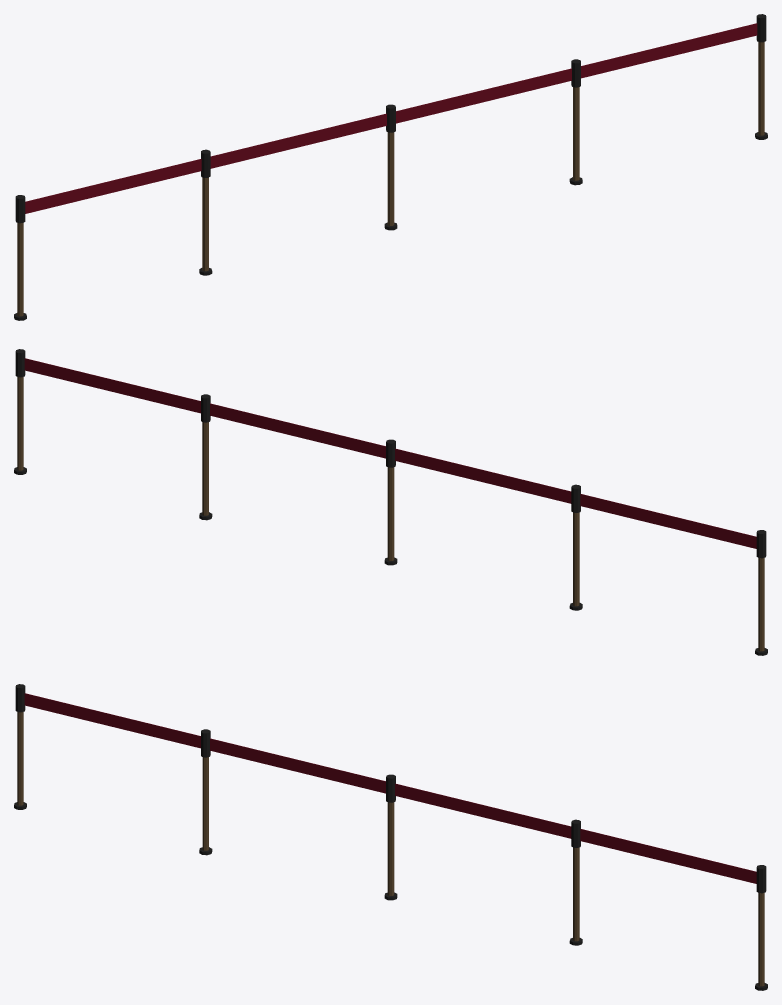
The model's file is barrier.fbx.
3 views of the same model, one above another, from view 1: azimuth 30°, elevation 25°; view 2: azimuth 150°, elevation 25°; view 3: azimuth 330°, elevation 25° (orthographic).
Parts seen in each view (by area): view 1: ribbon.001, ribbon.003, ribbon, ribbon.002, pole.002, pole.001, pole.003, pole.004, pole; view 2: ribbon.001, ribbon.003, ribbon, ribbon.002, pole.002, pole.001, pole.003, pole.004, pole; view 3: ribbon.002, ribbon, ribbon.003, ribbon.001, pole.002, pole.001, pole.003, pole, pole.004.
Part boxes in pixels (box(x1,y1,x2,y2)): ribbon.001: box(210, 113, 386, 168); ribbon.003: box(581, 23, 757, 78); ribbon: box(25, 159, 201, 213); ribbon.002: box(396, 68, 571, 123); pole.002: box(387, 132, 394, 225); pole.001: box(202, 177, 208, 271); pole.003: box(573, 87, 579, 180); pole.004: box(758, 42, 764, 135); pole: box(17, 222, 23, 316); ribbon.001: box(395, 448, 571, 503); ribbon.003: box(24, 358, 200, 413); ribbon: box(580, 494, 756, 548); ribbon.002: box(210, 403, 385, 458); pole.002: box(387, 467, 394, 560); pole.001: box(573, 512, 579, 606); pole.003: box(202, 422, 208, 515); pole.004: box(17, 377, 23, 470); pole: box(758, 557, 764, 651); ribbon.002: box(395, 783, 571, 838); ribbon: box(24, 693, 200, 748); ribbon.003: box(580, 829, 756, 883); ribbon.001: box(210, 738, 385, 793); pole.002: box(387, 802, 394, 895); pole.001: box(202, 757, 208, 850); pole.003: box(573, 847, 579, 941); pole: box(17, 712, 23, 805); pole.004: box(758, 892, 764, 986).
Bounding box in the file's own units: 3250 × 500 × 50.
